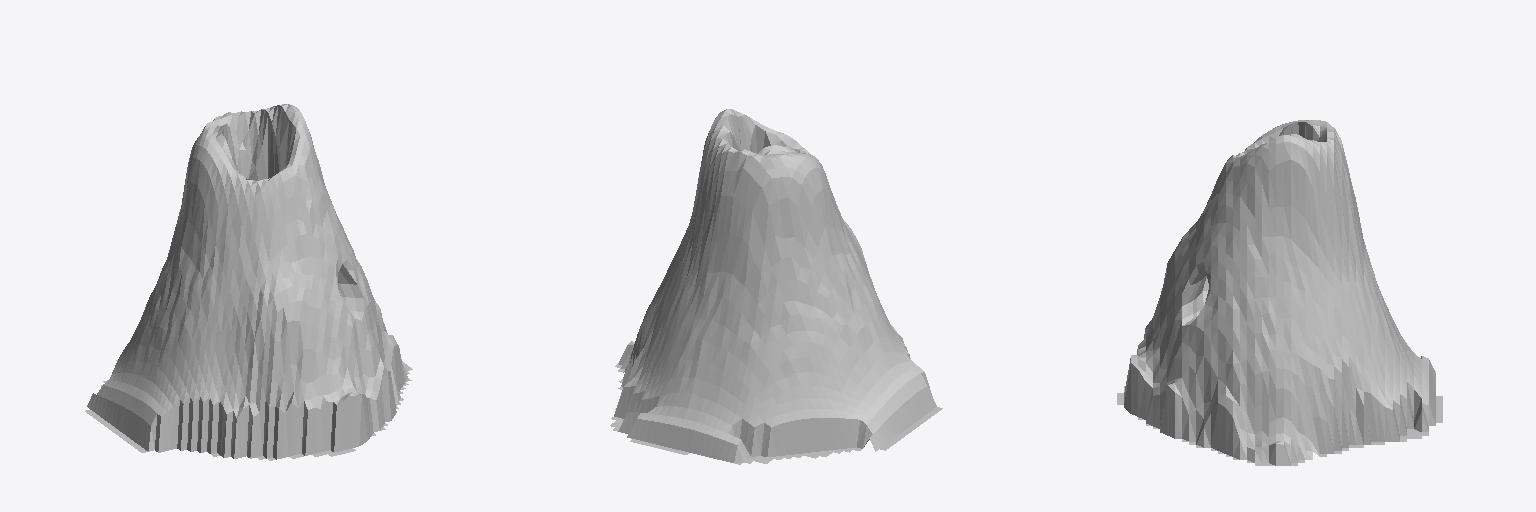
The model's file is volcano.obj.
The picture shows the model from 3 angles: view 1: azimuth 30°, elevation 25°; view 2: azimuth 150°, elevation 25°; view 3: azimuth 270°, elevation 25°; orthographic projection.
Visible parts, largest first — view 1: Terrain.001_Plane.001; view 2: Terrain.001_Plane.001; view 3: Terrain.001_Plane.001.
Boxes of the visible parts, x1=… form: Terrain.001_Plane.001: x1=85, y1=104, x2=412, y2=460; Terrain.001_Plane.001: x1=610, y1=109, x2=942, y2=464; Terrain.001_Plane.001: x1=1117, y1=120, x2=1442, y2=465.
Bounding box in the file's own units: 11.5 × 10.6 × 11.25.